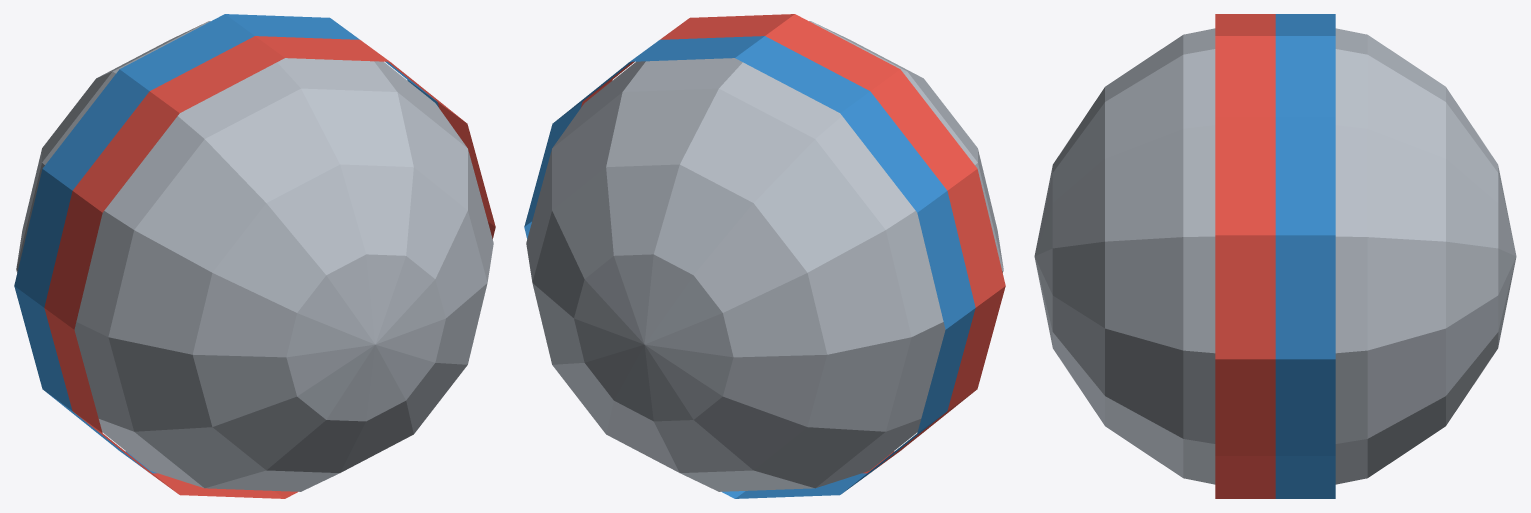
Rendered from X_BulletMiknato.fbx.
3 views of the same model, side by side, from view 1: azimuth 30°, elevation 25°; view 2: azimuth 150°, elevation 25°; view 3: azimuth 270°, elevation 25° (orthographic).
Visible parts, largest first — view 1: X_BulletMiknato; view 2: X_BulletMiknato; view 3: X_BulletMiknato.
Boxes of the visible parts, left/top/right/bottom form: X_BulletMiknato: left=14, top=14, right=495, bottom=498; X_BulletMiknato: left=524, top=14, right=1005, bottom=498; X_BulletMiknato: left=1034, top=14, right=1516, bottom=498.
Bounding box in the file's own units: 0.2828 × 0.2828 × 0.28.
